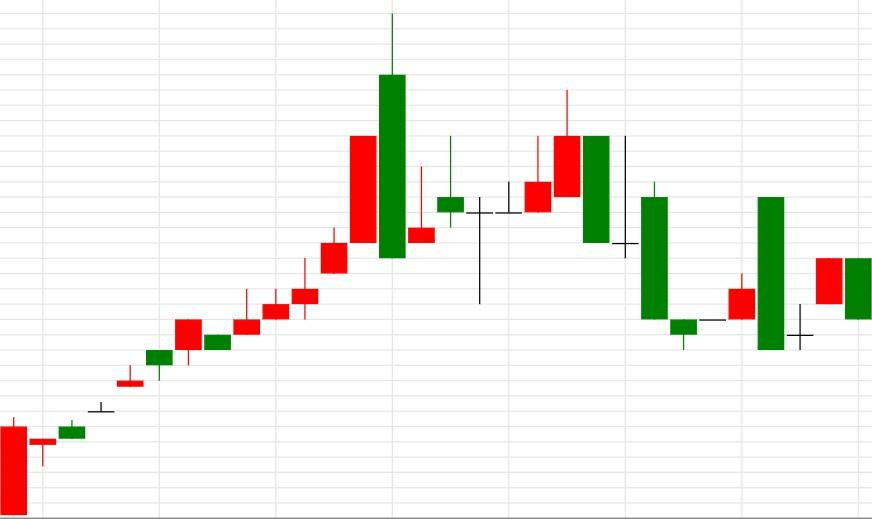bearish_engulfing_fall: (0, 13, 407, 516), (669, 195, 785, 350)
